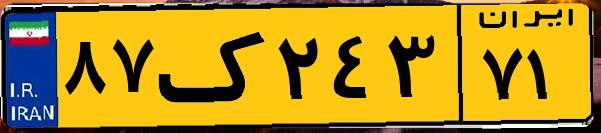1: (525, 38, 570, 115)
2: (270, 28, 330, 110)
3: (385, 28, 445, 110)
4: (330, 28, 385, 110)
7: (475, 38, 525, 113), (110, 28, 158, 98)
8: (57, 26, 110, 100)
ک: (158, 12, 270, 120)
